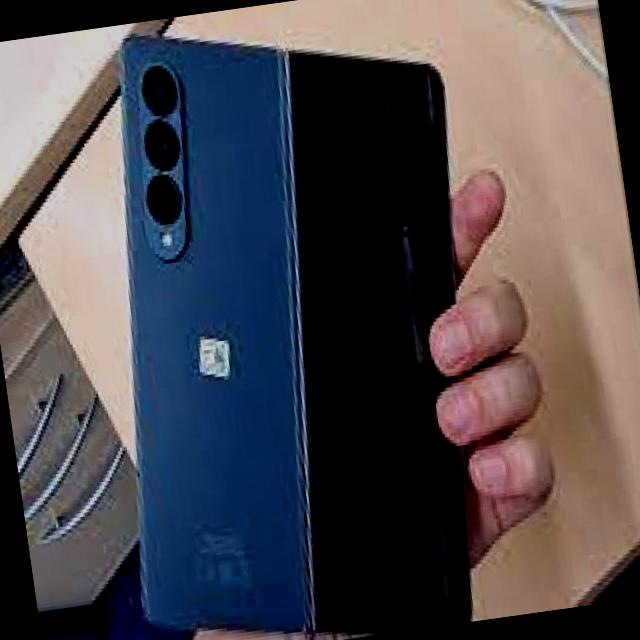lens_back: (135, 168, 190, 232), (133, 114, 186, 176), (134, 64, 190, 118)
phone: (58, 0, 521, 640)
